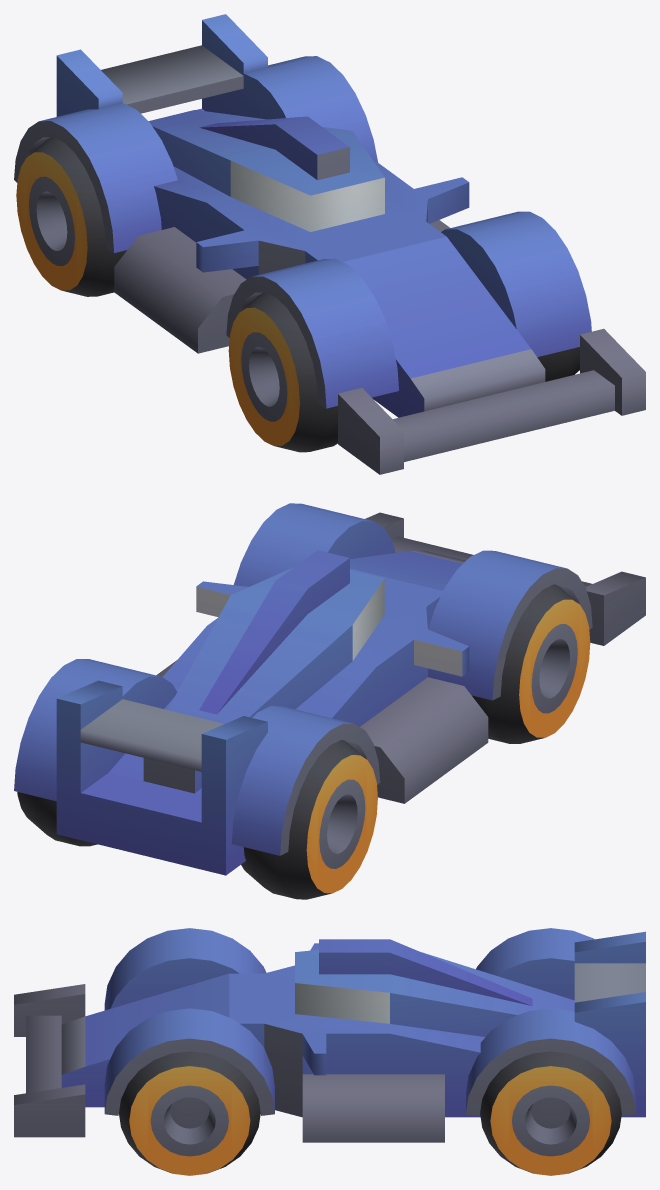
File: race-future.glb
3 views of the same model, one above another, from view 1: azimuth 30°, elevation 25°; view 2: azimuth 150°, elevation 25°; view 3: azimuth 270°, elevation 25° (orthographic). The views are drawn at different scales.
Visible parts, largest first — view 1: body; view 2: body; view 3: body.
Boxes of the visible parts, box(x1,y1,x2,y2) form: body: box(14, 14, 645, 474); body: box(14, 503, 645, 899); body: box(14, 928, 645, 1175).
Size of the model in its own units: 1.2 by 0.8325 by 2.66.
Materials: 1 (1 with a texture image).
